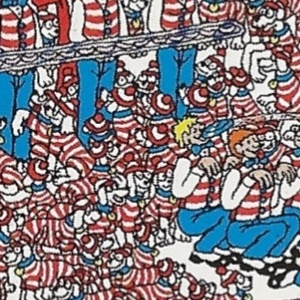Wenda: (143, 103, 157, 196)
